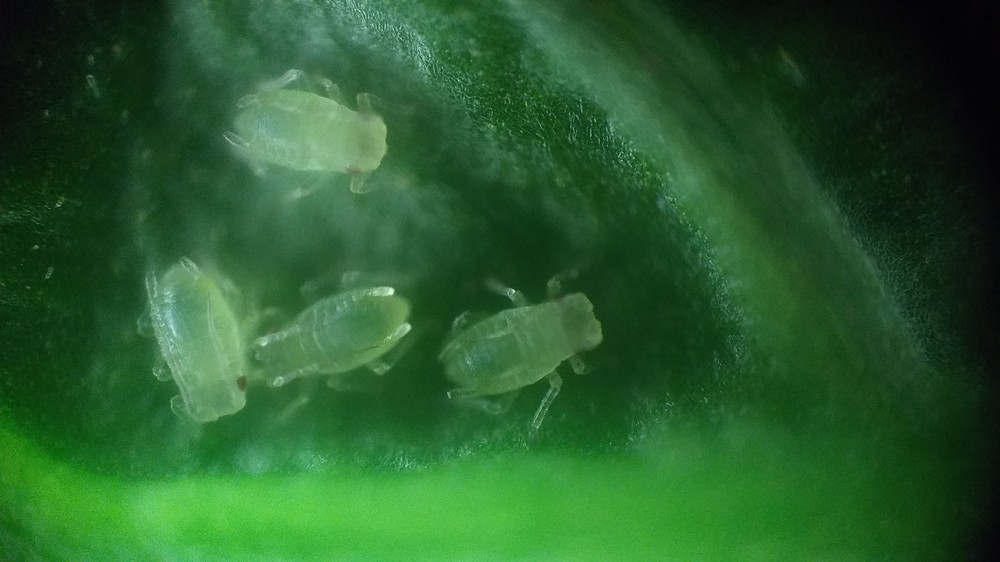Pulgon: (436, 254, 649, 447), (208, 58, 424, 213), (123, 248, 277, 436), (244, 264, 436, 411)
